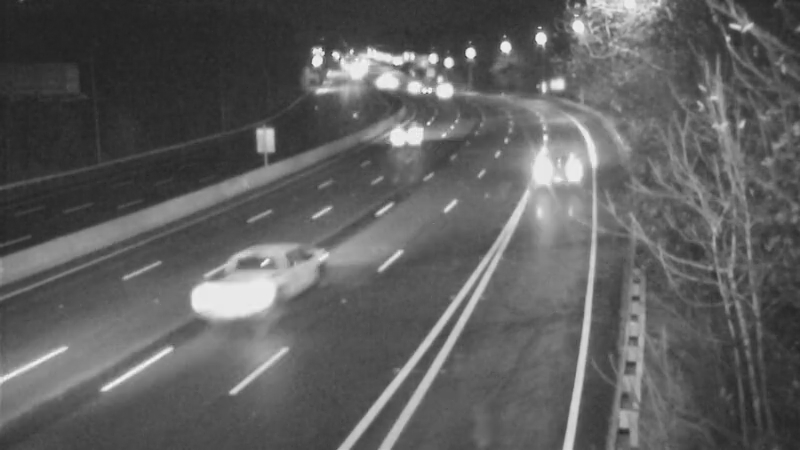vehicle: (521, 135, 601, 215), (190, 255, 270, 335), (386, 60, 436, 110), (402, 68, 452, 118), (423, 66, 473, 116), (380, 112, 430, 162)
